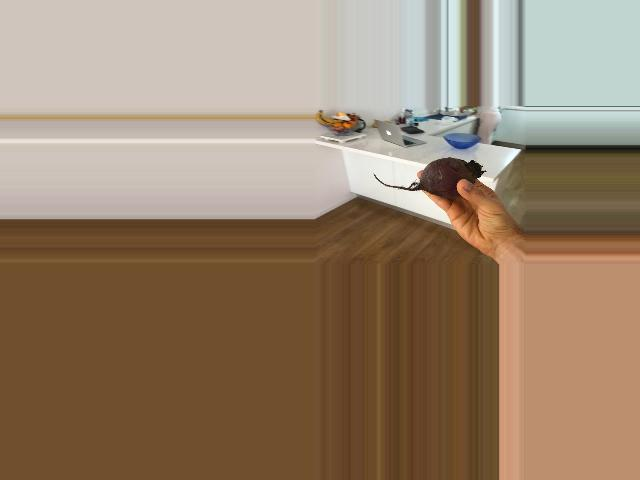beet: (373, 158, 484, 197)
